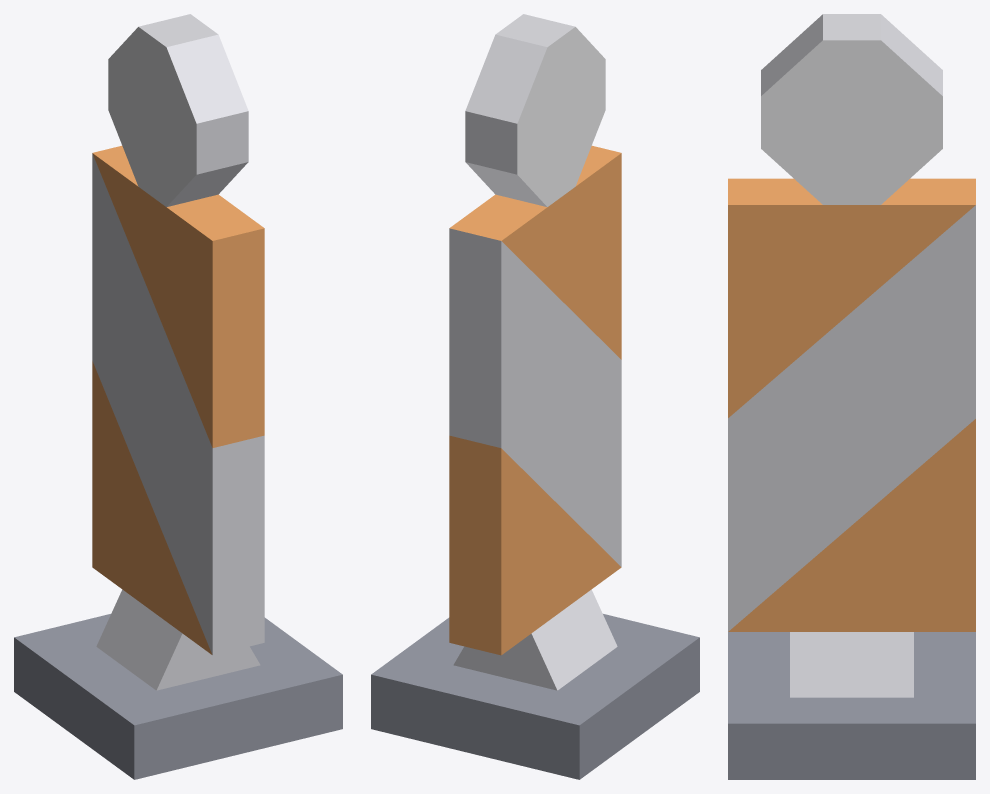
File: construction_light.glb
3 renders of one model, left to right at view 1: azimuth 30°, elevation 25°; view 2: azimuth 150°, elevation 25°; view 3: azimuth 270°, elevation 25°, orthographic. The views are drawn at different scales.
Parts seen in each view (by area): view 1: construction_light; view 2: construction_light; view 3: construction_light.
Part boxes in pixels (x1,y1,x2,y2): construction_light: (14, 14, 342, 779); construction_light: (371, 14, 699, 779); construction_light: (728, 14, 975, 779).
Bounding box in the file's own units: 0.075 × 0.2338 × 0.075.
